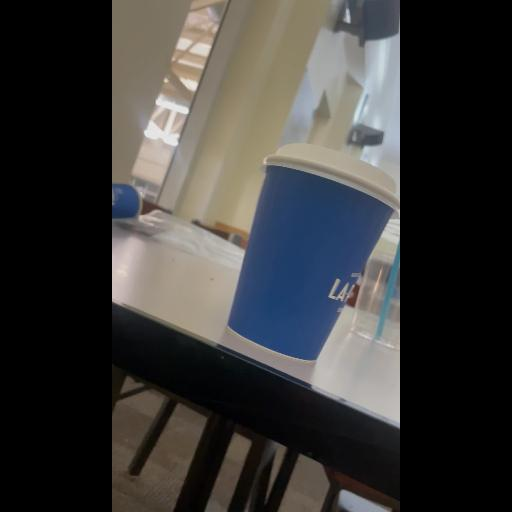lp_paper_cup: (220, 110, 400, 366), (112, 172, 156, 232)
